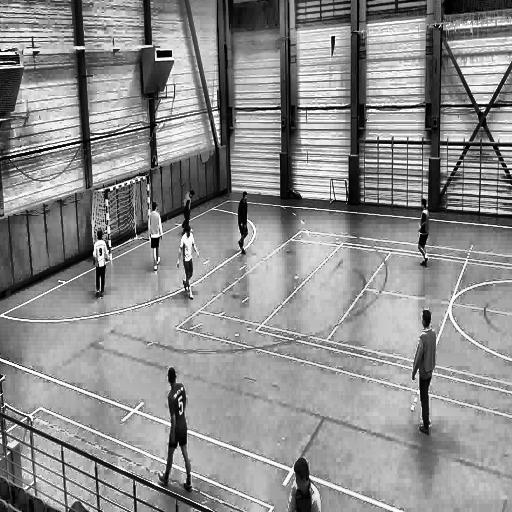ball: (190, 224, 195, 235)
player: (158, 368, 194, 497), (412, 308, 438, 440), (286, 455, 320, 512), (176, 224, 200, 302), (147, 201, 165, 274), (92, 229, 110, 300), (418, 195, 431, 271), (237, 190, 250, 260), (182, 188, 195, 223)
